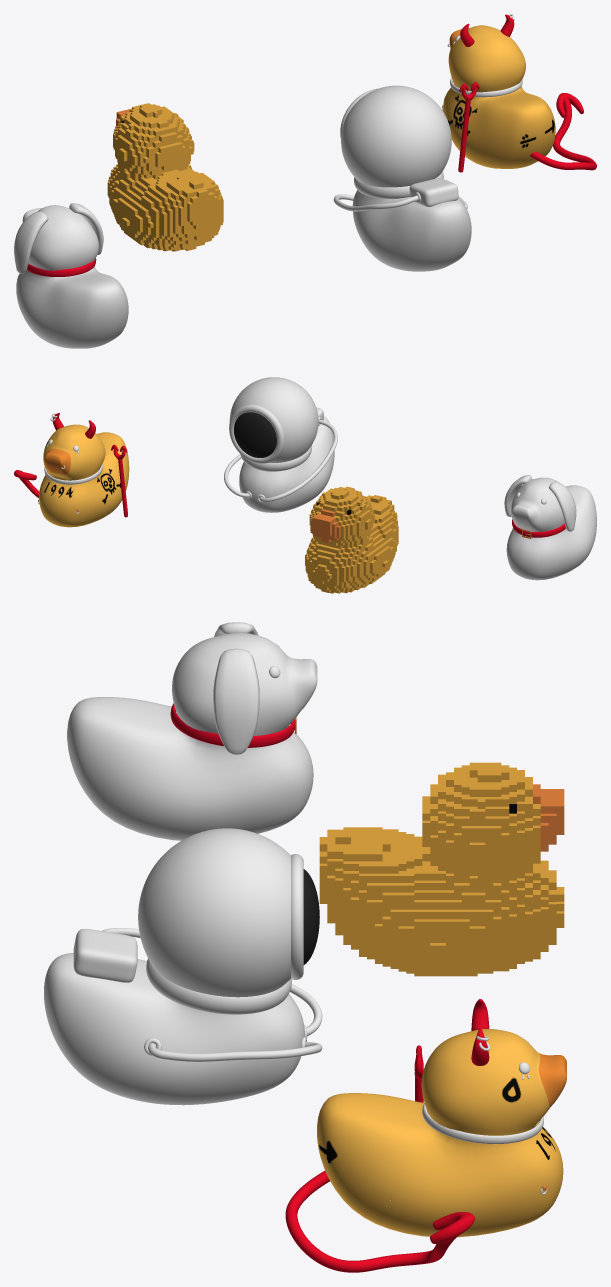
The model's file is Rubber Duck6.fbx.
3 renders of one model, top to bottom at view 1: azimuth 30°, elevation 25°; view 2: azimuth 150°, elevation 25°; view 3: azimuth 270°, elevation 25°, orthographic. The views are drawn at different scales.
Parts seen in each view (by area): view 1: wBox.009, wBox.011, wBox.001, wBox.006, wTube.001, wBox.008, wBox.013, wTorus.005, wTube.003, wTorus.004, wBox.007; view 2: wBox.011, wBox.009, wBox.001, wBox.006, wCapsule.005, wTorus.006, wBox.008, wTube.003, wTorus.005, wBox.007, wTorus.004, wTorus; view 3: wBox.009, wBox.011, wBox.001, wBox.006, wBox.007, wTube.001, wBox.013, wTorus.005, wTube, wTorus.006, wCapsule.005, wTorus.004 (+3 smaller).
Part boxes in pixels (bbox=[...]): wBox.009: bbox=[341, 85, 471, 271]; wBox.011: bbox=[107, 103, 223, 251]; wBox.001: bbox=[443, 25, 555, 168]; wBox.006: bbox=[16, 205, 128, 348]; wTube.001: bbox=[530, 98, 596, 170]; wBox.008: bbox=[14, 211, 48, 273]; wBox.013: bbox=[409, 178, 458, 206]; wTorus.005: bbox=[354, 171, 443, 199]; wTube.003: bbox=[333, 194, 418, 211]; wTorus.004: bbox=[27, 258, 96, 276]; wBox.007: bbox=[69, 203, 103, 254]; wBox.011: bbox=[305, 486, 398, 593]; wBox.009: bbox=[229, 377, 334, 512]; wBox.001: bbox=[39, 424, 129, 527]; wBox.006: bbox=[506, 477, 596, 580]; wCapsule.005: bbox=[234, 412, 276, 457]; wTorus.006: bbox=[229, 404, 284, 463]; wBox.008: bbox=[549, 481, 576, 531]; wTube.003: bbox=[259, 419, 337, 502]; wTorus.005: bbox=[240, 445, 311, 471]; wBox.007: bbox=[504, 475, 531, 516]; wTorus.004: bbox=[512, 519, 565, 537]; wTorus: bbox=[44, 464, 102, 484]; wBox.009: bbox=[44, 828, 304, 1105]; wBox.011: bbox=[319, 762, 564, 976]; wBox.001: bbox=[317, 1029, 566, 1237]; wBox.006: bbox=[67, 633, 317, 840]; wBox.007: bbox=[213, 648, 259, 754]; wTube.001: bbox=[285, 1171, 459, 1272]; wBox.013: bbox=[73, 928, 137, 982]; wTorus.005: bbox=[146, 958, 291, 1014]; wTube: bbox=[148, 1041, 322, 1061]; wTorus.006: bbox=[291, 854, 303, 979]; wCapsule.005: bbox=[303, 869, 319, 964]; wTorus.004: bbox=[170, 703, 295, 747].
Size of the model in its own units: 518 by 125 by 232.
